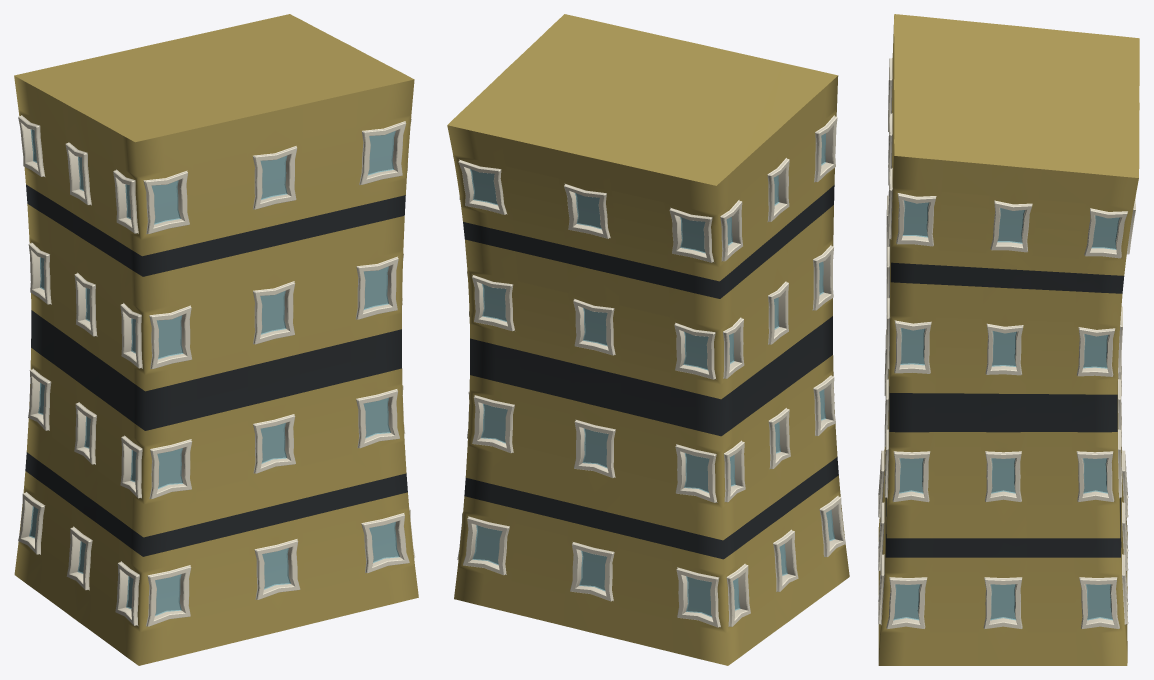
Rendered from Tentacle_Building_005.FBX.
3 renders of one model, left to right at view 1: azimuth 30°, elevation 25°; view 2: azimuth 150°, elevation 25°; view 3: azimuth 270°, elevation 25°, orthographic. The views are drawn at different scales.
Visible parts, largest first — view 1: Tentacule_Building_008; view 2: Tentacule_Building_008; view 3: Tentacule_Building_008.
Part boxes in pixels (x1,y1,x2,y2): Tentacule_Building_008: (14, 14, 418, 665); Tentacule_Building_008: (447, 14, 849, 665); Tentacule_Building_008: (878, 14, 1139, 665).
Size of the model in its own units: 220 by 382 by 175.
